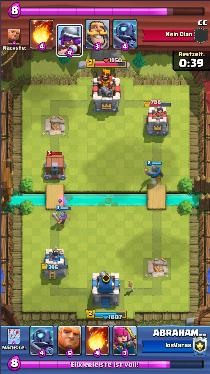EGoblinCage: (44, 151, 65, 179)
EKingTower: (92, 69, 120, 111)
EnemyPrincessTower: (146, 100, 170, 134)
OKnight: (144, 161, 162, 184)
OMusk: (52, 205, 70, 225)
OwnKingTower: (92, 271, 119, 307)
OwnPrincessTower: (41, 248, 67, 278)
TowerDown: (42, 115, 69, 138), (143, 258, 171, 280)
